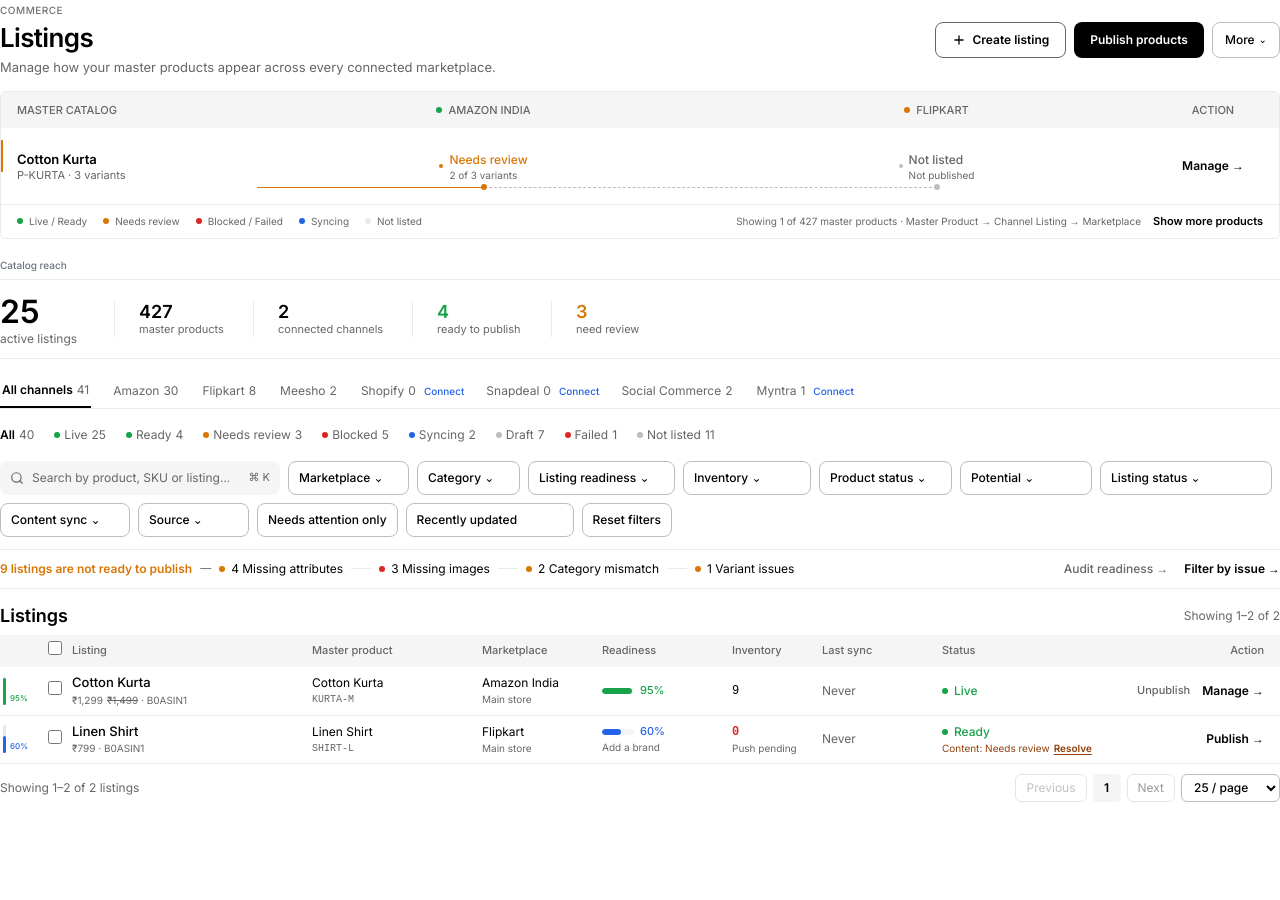
ListingsPage › publishes the selection from the header button, and opens the publishing preparation without one
expect the 1st link "Cotton Kurta" is shown: met, box left=72, top=674, right=151, bottom=690
Step 1. Click the checkbox named "Select Linen Shirt on Flipkart" → click(55, 736), box left=48, top=730, right=62, bottom=744
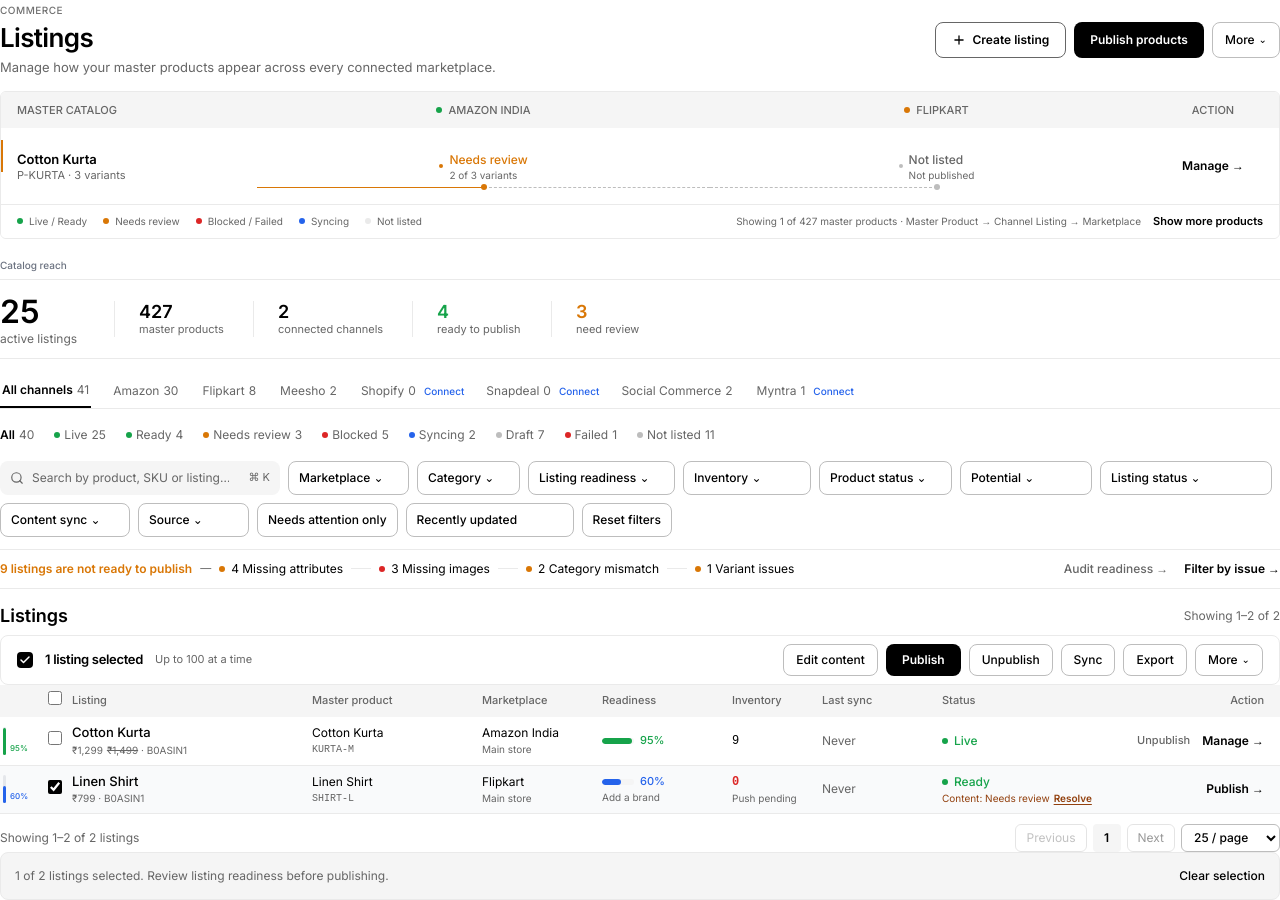
Step 2. Click the button "Publish products" → click(1139, 40), box left=1074, top=22, right=1204, bottom=58
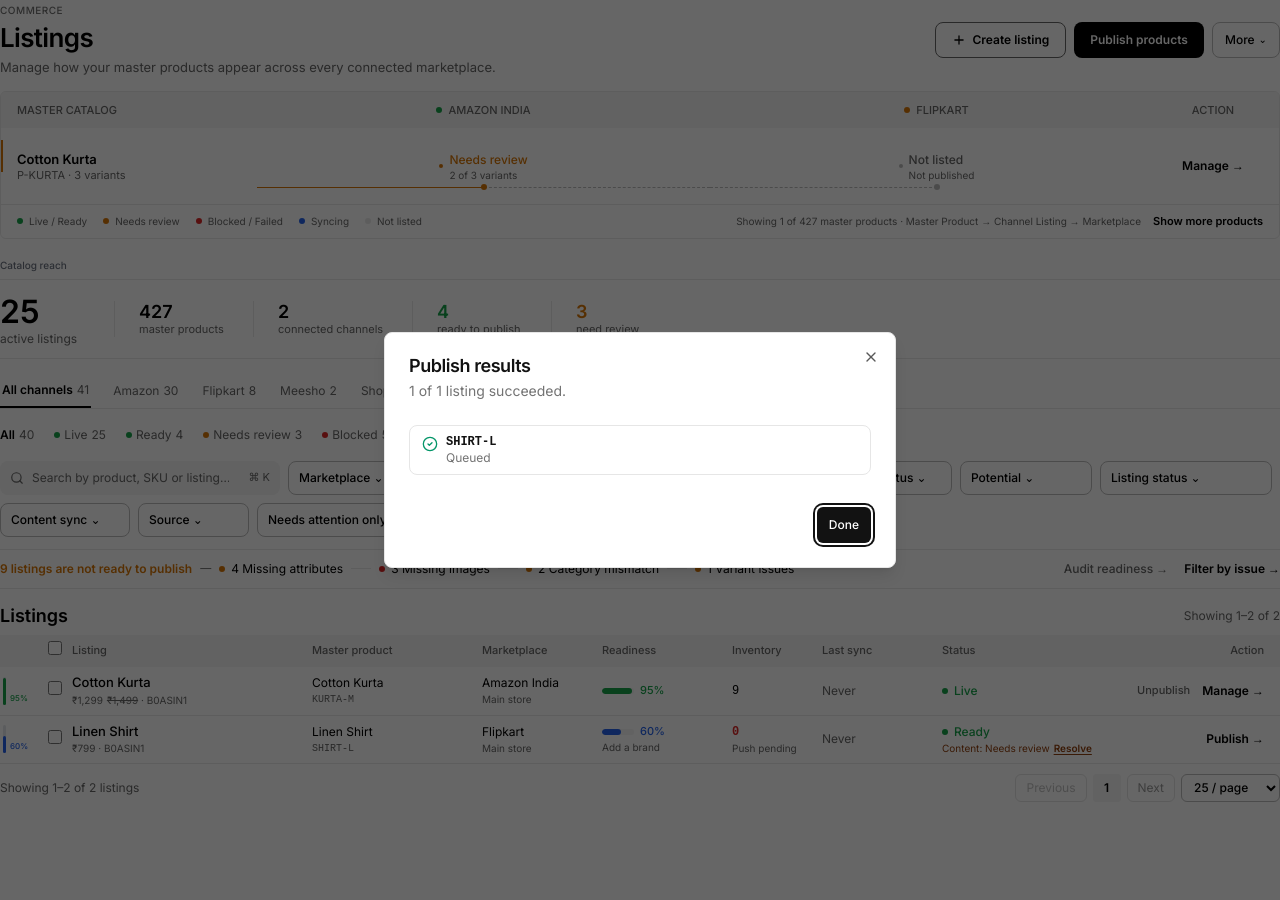
Step 3. Click the button "Done" → click(844, 525), box left=817, top=507, right=871, bottom=543
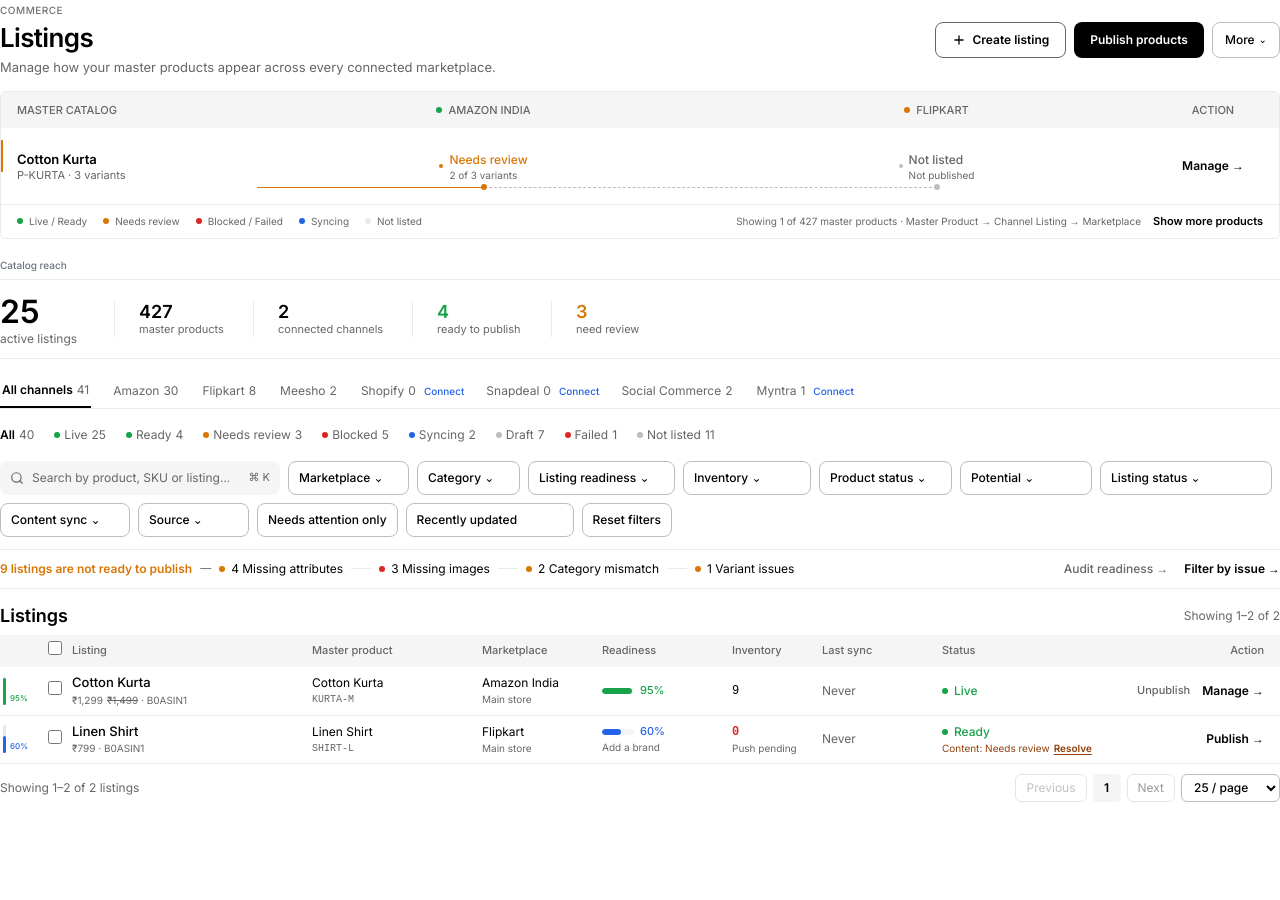
Step 4. Click the button "Publish products" → click(1139, 40), box left=1074, top=22, right=1204, bottom=58
(page scrolled)
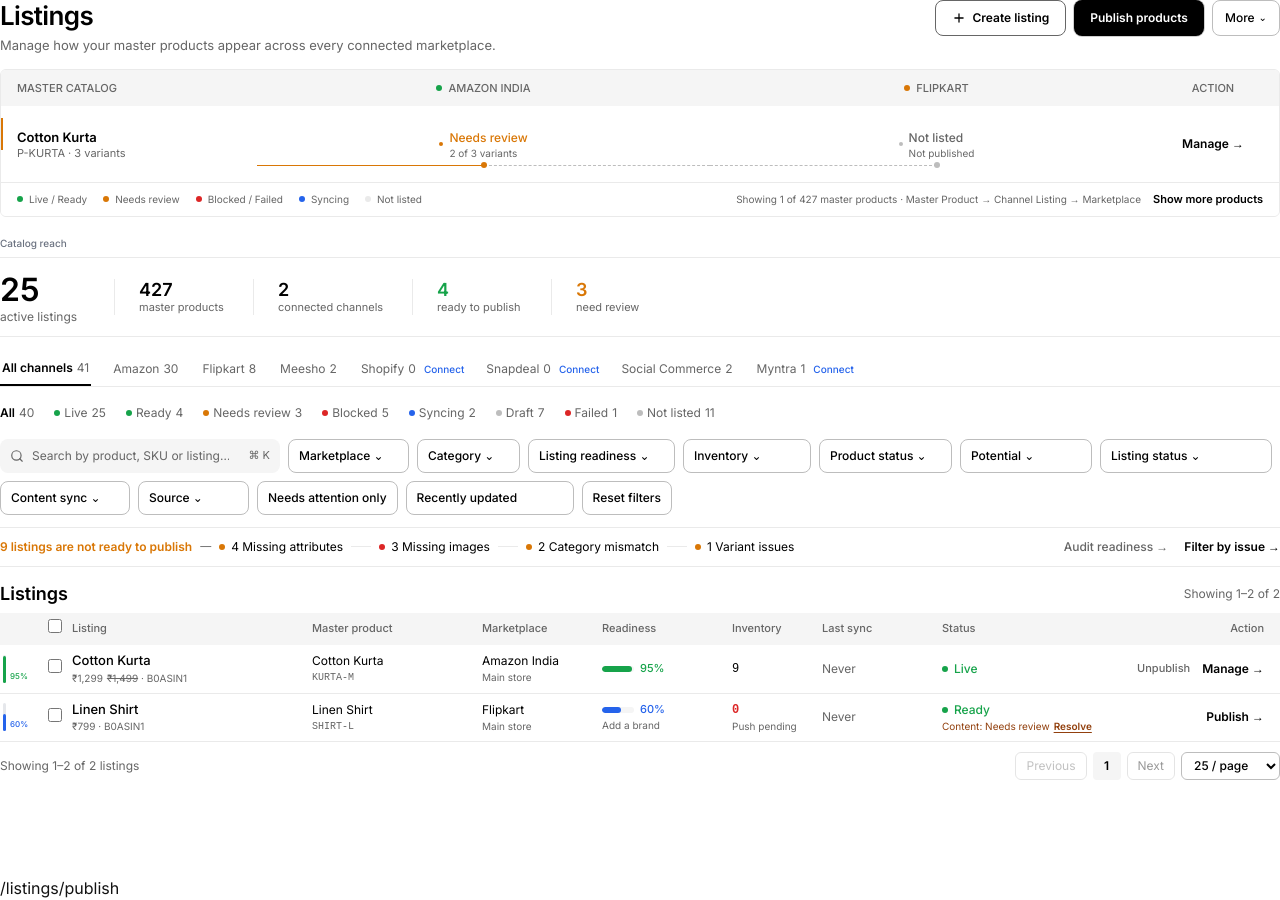
expect the text with test id "loc" reads "/listings/publish": met, box left=0, top=878, right=119, bottom=898
